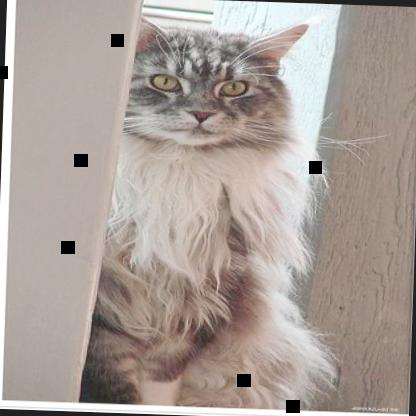cat: (88, 14, 329, 410)
